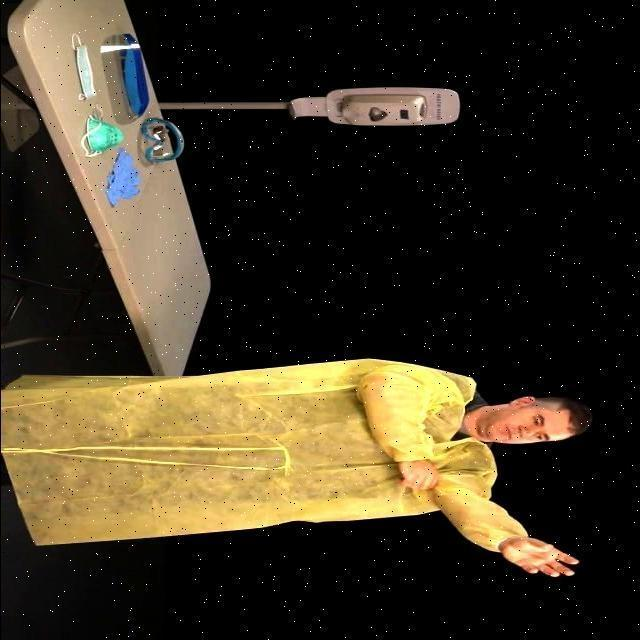no_apron: (506, 528, 572, 584), (388, 447, 438, 495)
no_hairnet: (489, 414, 538, 442)
